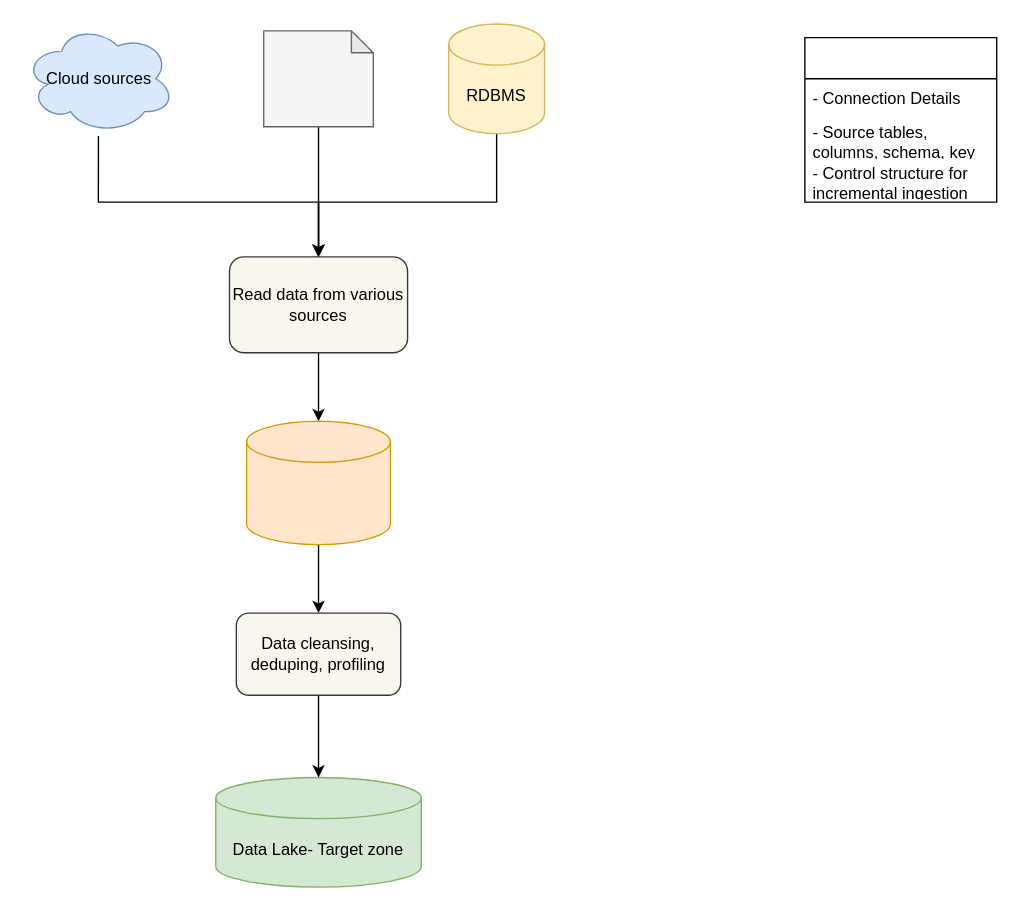
This 1021x911 diagram has some shape labels left out. The box of each missing label's shape, as (x1, y1, x2, y2) in pixels:
Configs: (804, 36, 997, 202)
Data lake landing zone: (245, 420, 390, 545)
Flat Files: (262, 29, 373, 127)
